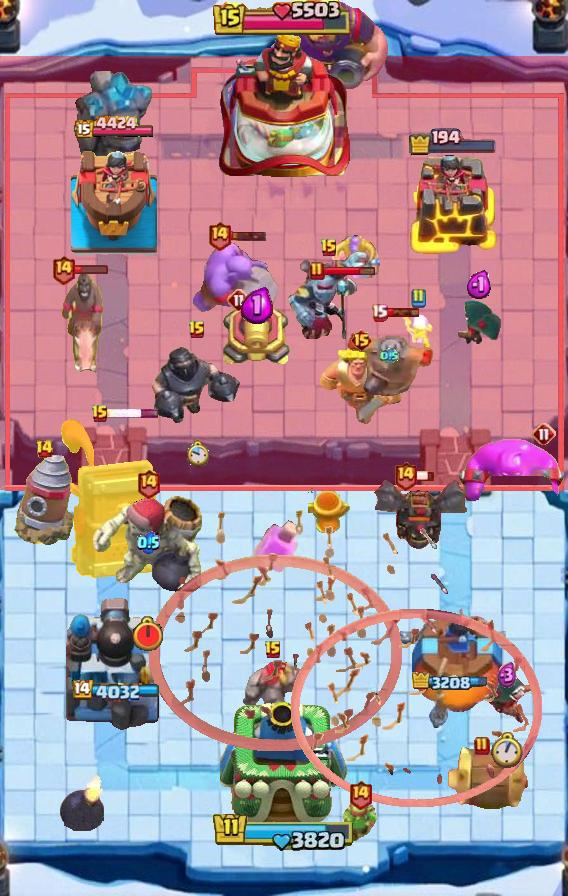archer-evolution: (371, 473, 467, 551)
archer-queen: (187, 241, 283, 321)
baby-dragon: (59, 772, 105, 831)
cannoneer-tower: (71, 71, 155, 169)
clock: (212, 811, 356, 853), (213, 0, 355, 38)
clone: (456, 439, 568, 505)
dark-prince: (341, 314, 437, 404)
dart-goblin: (61, 418, 161, 580)
electro-giant: (90, 493, 206, 603)
electro-spirit: (241, 287, 273, 325), (466, 270, 493, 300), (497, 662, 517, 689), (136, 531, 159, 554), (381, 348, 400, 364)
elixir: (131, 615, 165, 652), (491, 732, 523, 769), (187, 440, 210, 468)
elixir-golem-small: (287, 248, 371, 326)
emote: (323, 266, 376, 277), (107, 409, 160, 420), (230, 230, 267, 242), (73, 264, 109, 275), (385, 306, 420, 317), (415, 470, 435, 482)
freeze: (47, 266, 105, 378)
giant-snowball: (341, 800, 379, 848)
goblin-giant: (332, 234, 381, 277)
goblin-hut: (318, 346, 404, 426)
heal-spirit: (402, 311, 434, 347)
king-tower: (218, 27, 350, 181), (220, 702, 348, 827)
knight-evolution: (253, 519, 299, 573)
lightning: (264, 0, 393, 92)
magic-archer: (14, 452, 74, 546)
queen-tower: (400, 603, 506, 731), (71, 144, 157, 255), (408, 154, 498, 256)
rascal-boy: (297, 274, 361, 346)
royal-guardian: (151, 333, 243, 423)
royal-recruit: (221, 296, 293, 370)
selected: (408, 128, 498, 156), (73, 115, 154, 141), (69, 680, 158, 703), (412, 672, 494, 694)
skeleton-barrel: (289, 527, 542, 807), (149, 508, 403, 752)
tesla: (479, 676, 535, 724), (456, 298, 502, 346)
text: (208, 221, 233, 252), (51, 254, 76, 285), (135, 469, 160, 500), (348, 779, 373, 810), (394, 461, 419, 491), (227, 288, 251, 312), (532, 422, 556, 446), (351, 328, 374, 352), (35, 439, 54, 459), (320, 238, 338, 258), (188, 320, 206, 340), (91, 404, 109, 424), (264, 640, 282, 660), (371, 302, 389, 321), (309, 261, 325, 281), (410, 288, 426, 308), (474, 736, 490, 756)
the-log: (446, 745, 536, 813)
tower-bar: (66, 595, 162, 731)
valkyrie-evolution: (239, 660, 307, 730)
